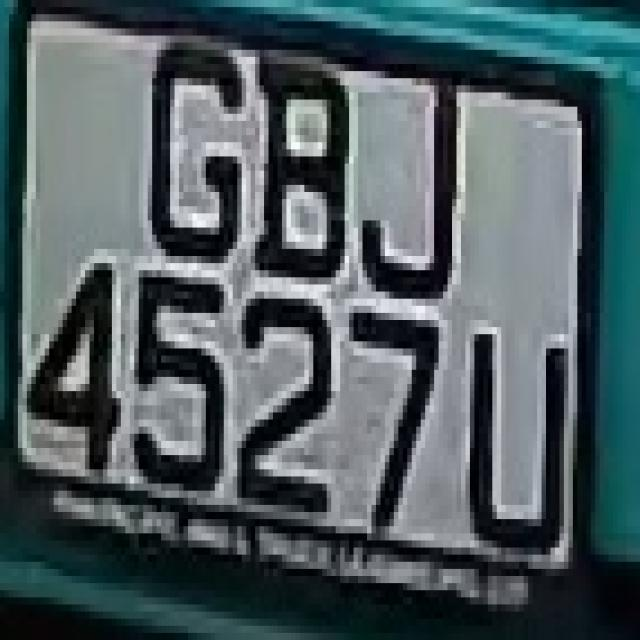2: (224, 270, 340, 540)
4: (22, 227, 121, 483)
5: (134, 256, 237, 505)
7: (336, 284, 448, 562)
B: (260, 57, 349, 327)
G: (139, 22, 255, 292)
J: (367, 64, 474, 313)
U: (461, 334, 577, 569)
